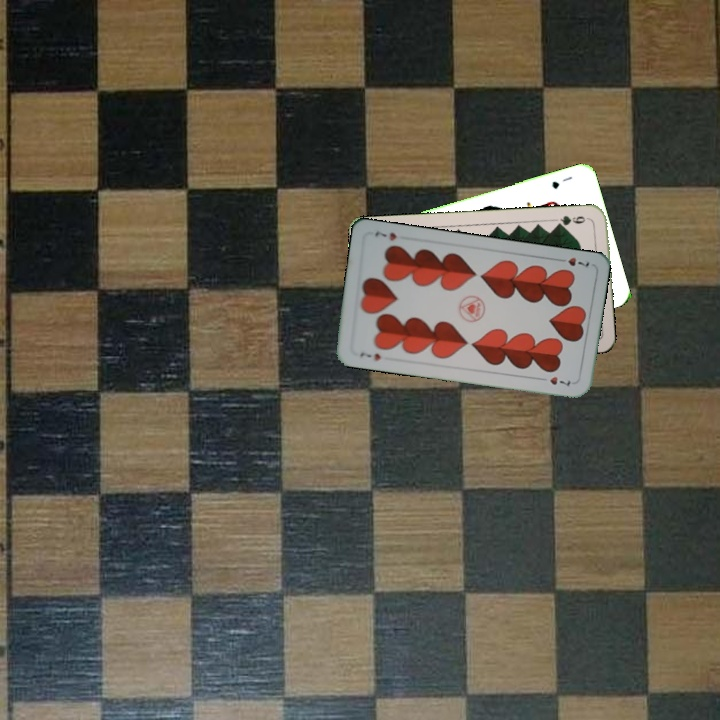G9: (552, 211, 592, 229)
GU: (548, 172, 575, 191)
H7: (553, 253, 592, 270), (355, 348, 383, 363)
